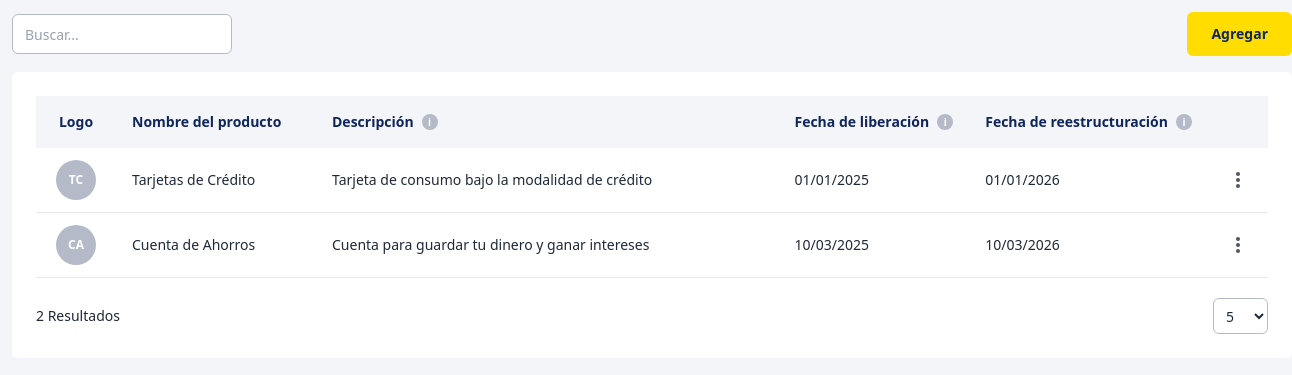
Scenario: ProductsComponent › menu de opciones › deberia mostrar las opciones de editar y eliminar en cada producto
This screenshot has width=1292, height=375.
Click the button named "Opciones de Tarjetas de Crédito".
click(1238, 180)  # box [1222,164,1254,196]
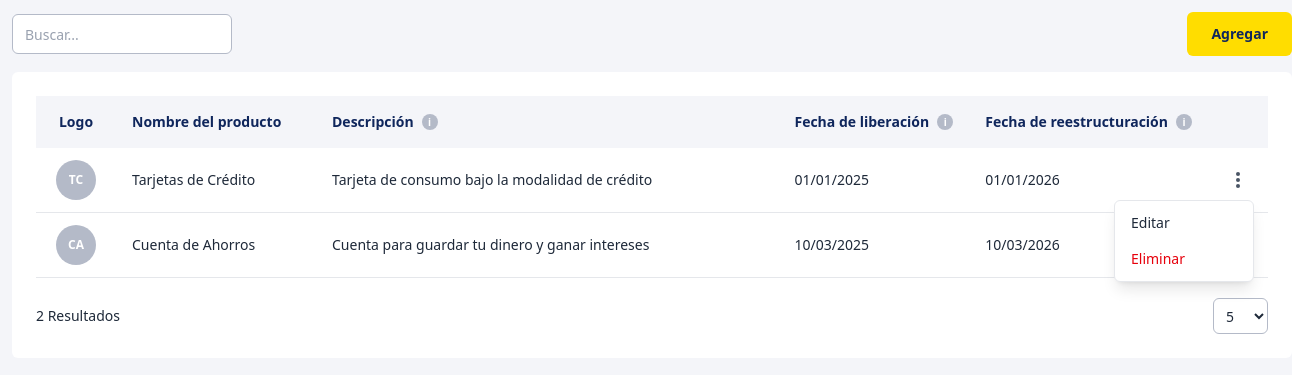
expect the menu item "Editar" is shown: met, box [1131,213,1170,232]
expect the menu item "Eliminar" is shown: met, box [1115,241,1253,277]
